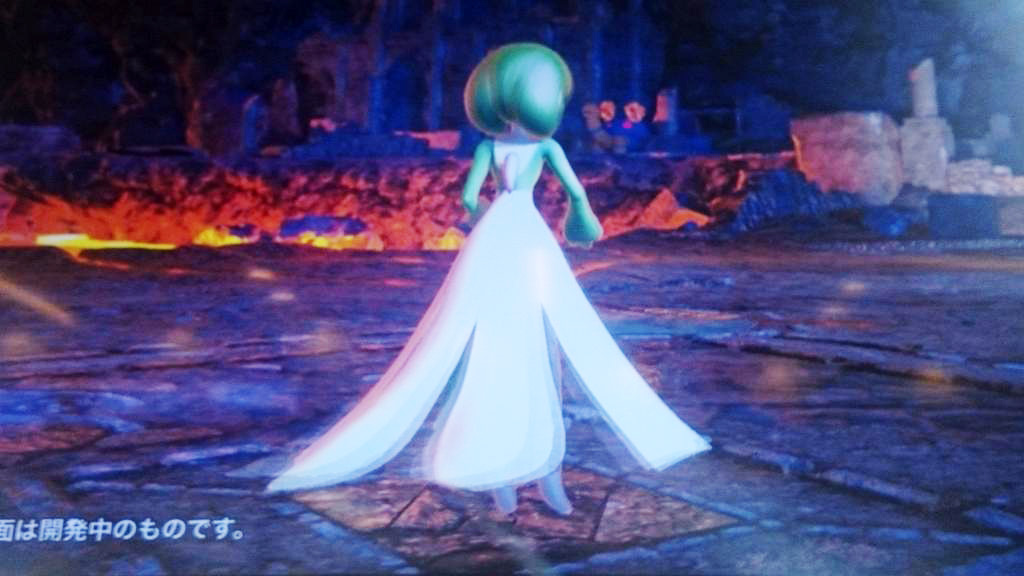gardevoir: (280, 33, 702, 528)
